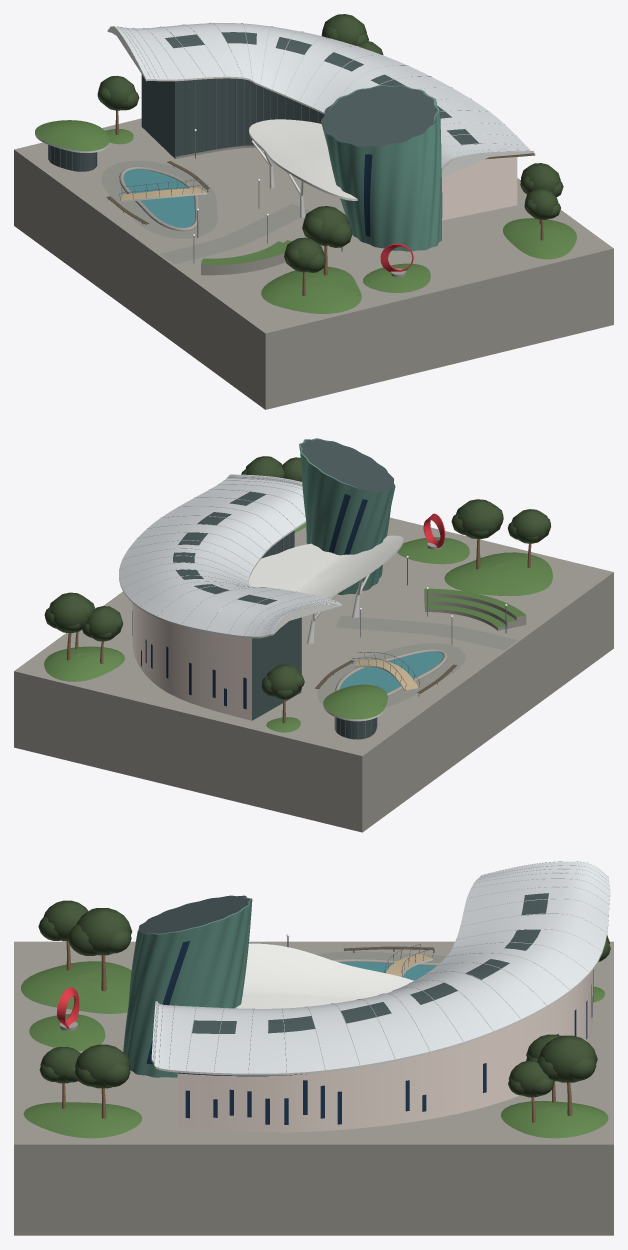
Rendered from top-prebuilt_close.fbx.
The picture shows the model from 3 angles, top to bottom: view 1: azimuth 30°, elevation 25°; view 2: azimuth 150°, elevation 25°; view 3: azimuth 270°, elevation 25°; orthographic projection. The views are drawn at different scales.
Parts seen in each view (by area): view 1: a1066/0/top-prebuilt_close; view 2: a1066/0/top-prebuilt_close; view 3: a1066/0/top-prebuilt_close.
Boxes of the visible parts, x1,y1,x2,y2 form: a1066/0/top-prebuilt_close: (14, 14, 613, 409); a1066/0/top-prebuilt_close: (14, 438, 613, 832); a1066/0/top-prebuilt_close: (14, 861, 613, 1235).
Size of the model in its own units: 48 by 27 by 60.
